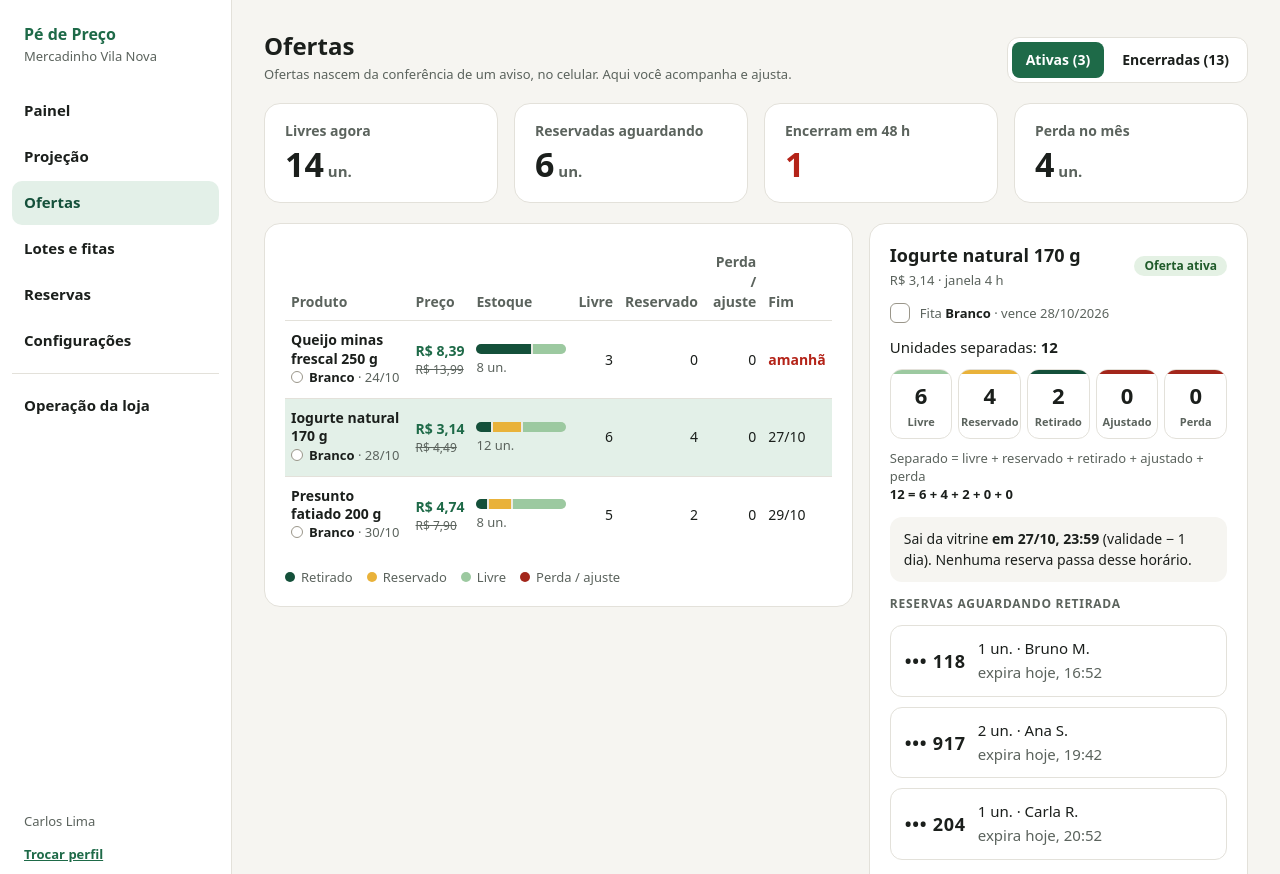
G4 · Ofertas (desktop) › encerradas: selo, perda explicada e ajuste desabilitado
What coordinates should you click on to do the following:
click the button "Encerradas (13)"
I would click on:
 (1176, 60)
Its box is 1108,42 -> 1243,78.
(page scrolled)
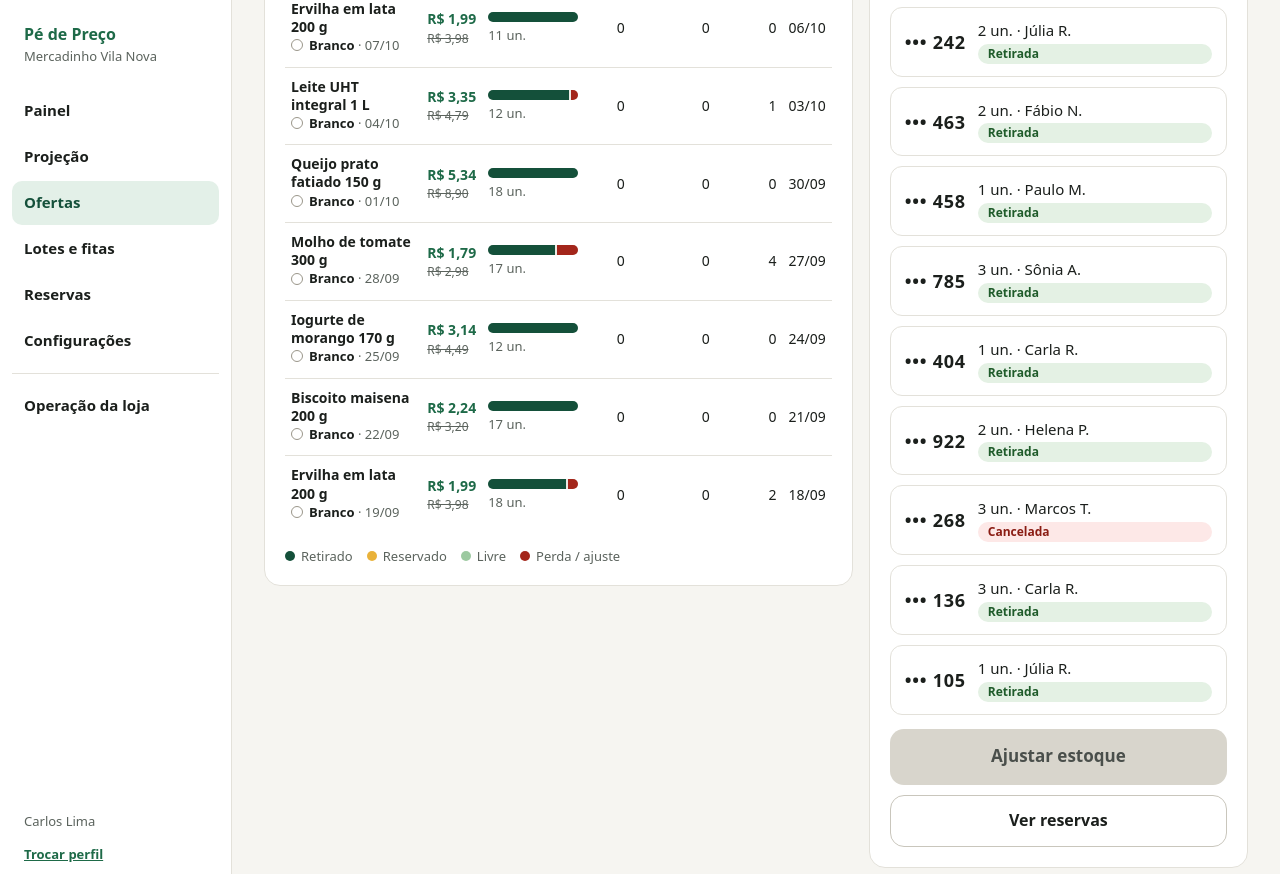
Expected: the button "Ajustar estoque" is disabled, 890,729 -> 1227,785
